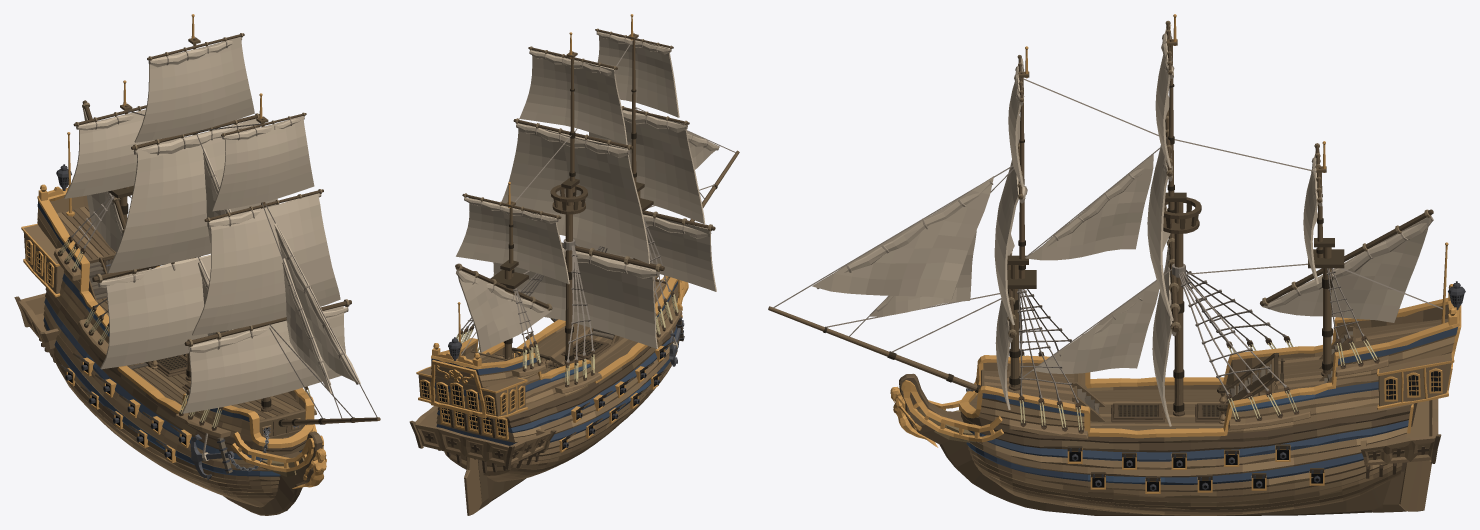
The model's file is SM_Veh_Boat_Warship_01_Hull.glb.
The picture shows the model from 3 angles, left to right: view 1: azimuth 30°, elevation 25°; view 2: azimuth 150°, elevation 25°; view 3: azimuth 270°, elevation 25°; orthographic projection. The views are drawn at different scales.
Visible parts, largest first — view 1: mesh_id5, node_id18, node_id14, node_id28, node_id10, node_id22, node_id8, node_id24, node_id30, node_id6, node_id20; view 2: mesh_id5, node_id18, node_id14, node_id28, node_id10, node_id24, node_id8, node_id6, node_id22; view 3: mesh_id5, node_id22, node_id20, node_id24, node_id28, node_id6, node_id10, node_id18, node_id14, node_id8, node_id30.
Boxes of the visible parts, <box> form: mesh_id5: <box>14,132,380,515</box>; node_id18: <box>100,37,277,369</box>; node_id14: <box>182,116,345,413</box>; node_id28: <box>64,109,180,252</box>; node_id10: <box>92,14,259,380</box>; node_id22: <box>274,223,360,393</box>; node_id8: <box>184,93,351,411</box>; node_id24: <box>57,110,377,430</box>; node_id30: <box>198,153,358,384</box>; node_id6: <box>73,80,146,276</box>; node_id20: <box>200,148,233,335</box>; mesh_id5: <box>409,150,739,515</box>; node_id18: <box>493,50,657,348</box>; node_id14: <box>573,31,716,291</box>; node_id28: <box>456,198,569,352</box>; node_id10: <box>513,32,664,363</box>; node_id24: <box>456,40,735,387</box>; node_id8: <box>595,14,715,266</box>; node_id6: <box>455,182,561,359</box>; node_id22: <box>687,131,719,169</box>; mesh_id5: <box>768,242,1465,515</box>; node_id22: <box>812,176,993,316</box>; node_id20: <box>1026,154,1159,373</box>; node_id24: <box>773,78,1442,433</box>; node_id28: <box>1261,158,1430,322</box>; node_id6: <box>1260,141,1433,376</box>; node_id10: <box>1161,14,1201,416</box>; node_id18: <box>1147,24,1173,426</box>; node_id14: <box>994,59,1023,409</box>; node_id8: <box>1005,46,1036,390</box>; node_id30: <box>817,157,1149,356</box>.
Size of the model in its own units: 0.2371 by 0.512 by 0.646.
Materials: 14 (14 with a texture image).
